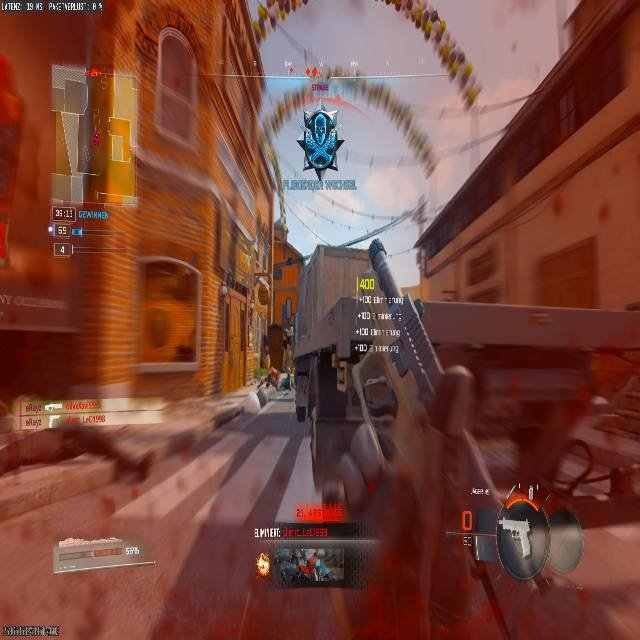player: (297, 110, 343, 181), (259, 320, 293, 397), (268, 367, 279, 389)
